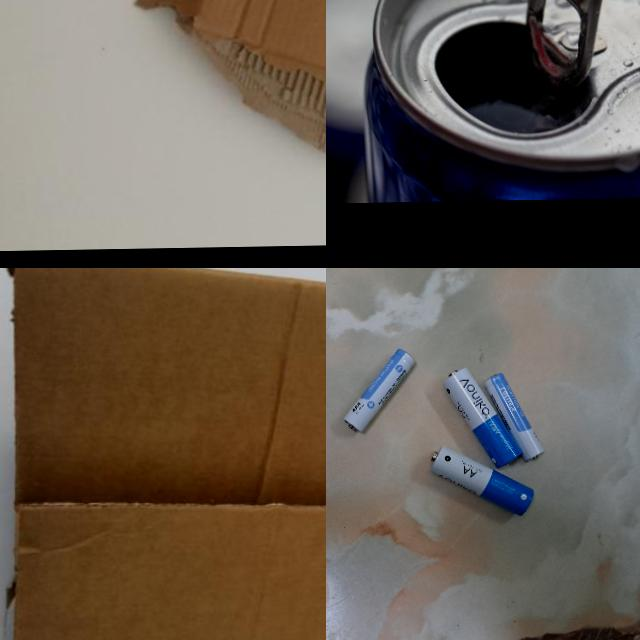aba de lata: (519, 0, 607, 93)
bateria: (442, 364, 523, 468), (429, 440, 535, 518), (342, 348, 414, 432), (482, 370, 546, 461)
lata: (351, 0, 640, 202)
papelão: (0, 268, 326, 640), (130, 0, 326, 188)
